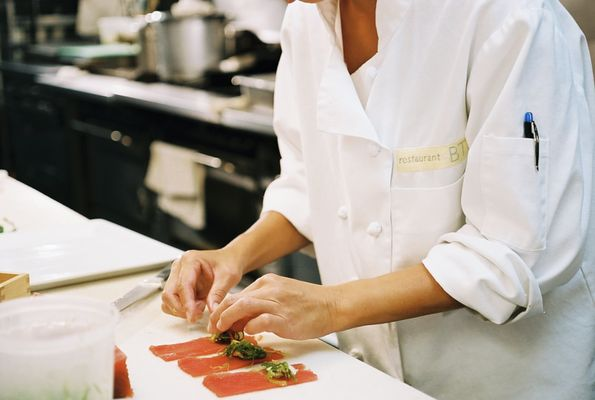pizza: (1, 295, 119, 397)
